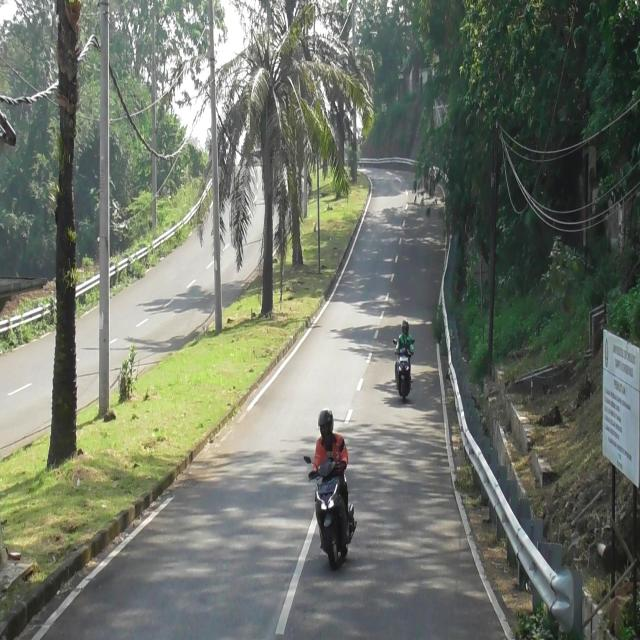motorcycle: (312, 409, 353, 536), (392, 338, 413, 403)
person: (309, 459, 358, 568), (395, 316, 414, 355)
rider_region: (307, 413, 354, 570), (392, 312, 416, 399)
